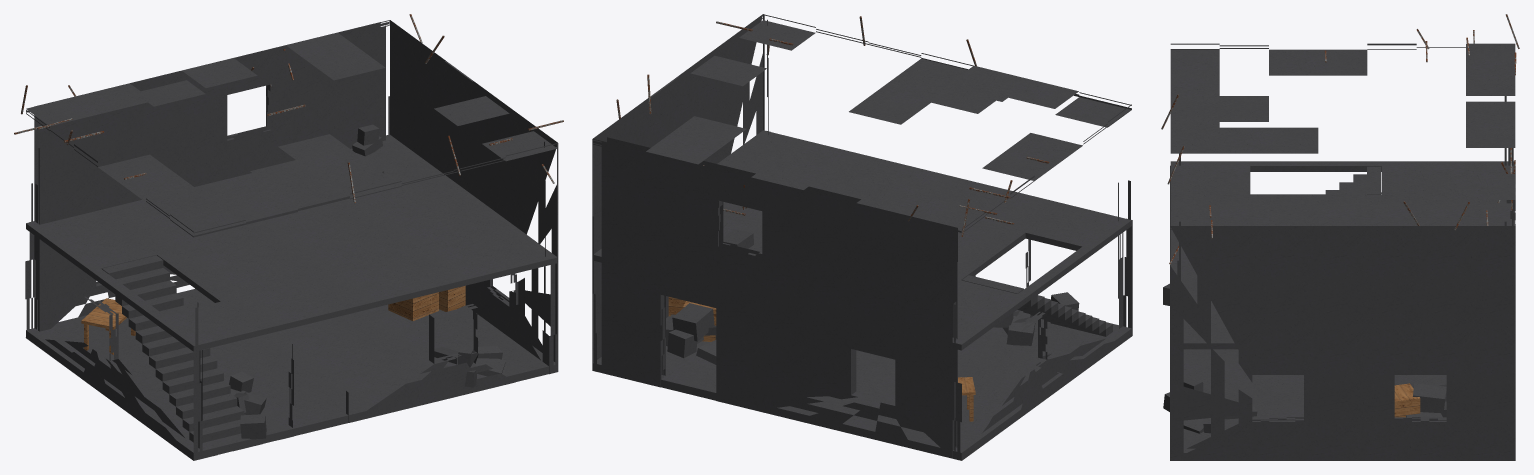
The model's file is ruined_building.glb.
3 views of the same model, side by side, from view 1: azimuth 30°, elevation 25°; view 2: azimuth 150°, elevation 25°; view 3: azimuth 270°, elevation 25° (orthographic). The views are drawn at different scales.
Visible parts, largest first — view 1: RuinedBuilding; view 2: RuinedBuilding; view 3: RuinedBuilding.
Part boxes in pixels (left/top/right/bottom): RuinedBuilding: left=14, top=14, right=563, bottom=460; RuinedBuilding: left=592, top=14, right=1132, bottom=460; RuinedBuilding: left=1161, top=14, right=1519, bottom=460.
Size of the model in its own units: 11.56 by 6.73 by 8.3.
Materials: 3 (3 with a texture image).
